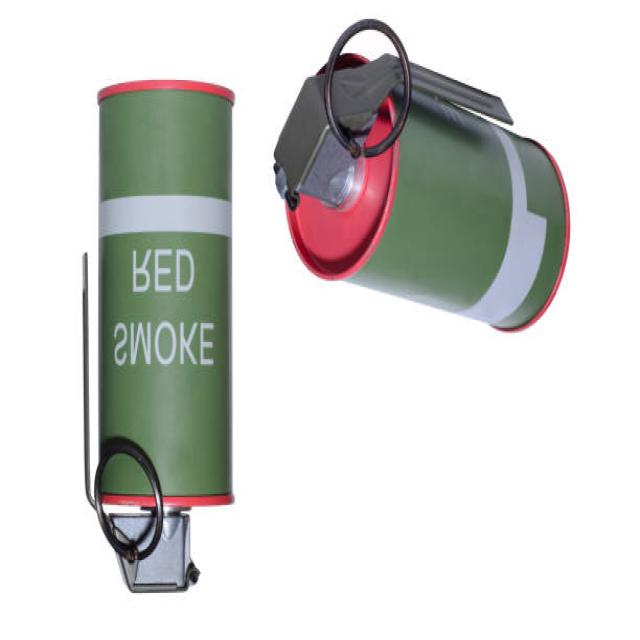grenade: (270, 9, 578, 352), (69, 61, 249, 606)
